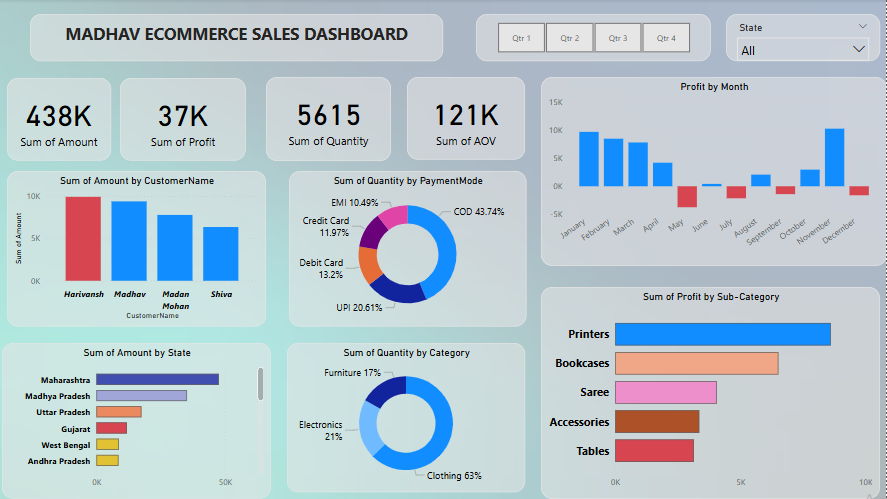

What the dashboard file says about the page in this screenshot:
{"tool":"powerbi","page":{"name":"Page 1","canvas":[1280,720],"ordinal":0},"visuals":[{"type":"clusteredColumnChart","title":"Profit by Month","fields":{"Category":["Orders (1).Order Date.Variation.Date Hierarchy.Month"],"Y":["Details.Profit"]},"box":[782.3,112,497.7,271.8],"z":0},{"type":"clusteredBarChart","fields":{"Category":["Details.Sub-Category"],"Y":["Details.Profit"]},"box":[782.3,415,488.5,304.8],"z":1000},{"type":"donutChart","fields":{"Category":["Details.Category"],"Y":["Details.Quantity"]},"box":[416.6,495.5,342.7,215],"z":2000},{"type":"donutChart","fields":{"Category":["Details.PaymentMode"],"Y":["Details.Quantity"]},"box":[418.7,247.9,341.6,224],"z":3000},{"type":"card","fields":{"Values":["Details.Amount"]},"box":[13.4,114.2,149.5,119.3],"z":4000},{"type":"card","fields":{"Values":["Details.Profit"]},"box":[176.4,114.2,181.4,119.3],"z":5000},{"type":"card","fields":{"Values":["Details.Quantity"]},"box":[386.4,112.5,179.7,120.9],"z":6000},{"type":"card","fields":{"Values":["Details.AOV"]},"box":[589.6,112.5,169.7,119.3],"z":7000},{"type":"barChart","fields":{"Category":["Orders (1).State"],"Y":["Details.Amount"]},"box":[5.5,495.8,387.5,224],"z":8000},{"type":"columnChart","fields":{"Category":["Orders (1).CustomerName"],"Y":["Details.Amount"]},"box":[12.9,247.9,372.8,224],"z":9000},{"type":"textbox","box":[45.9,22,595,67.9],"z":10000},{"type":"slicer","fields":{"Values":["Orders (1).Order Date.Variation.Date Hierarchy.Quarter"]},"box":[688.7,22,337.9,67.9],"z":11000},{"type":"slicer","fields":{"Values":["Orders (1).State"]},"box":[1048.6,22,222.2,67.9],"z":12000}]}

Visuals, with their boxes in screenshot pixels (x1, y1, x2, y2), scaled from the page's 1280x720 canvas onto the 887x499 screenshot:
"Profit by Month" clusteredColumnChart: (left=542, top=78, right=886, bottom=266)
clusteredBarChart - Details.Sub-Category x Details.Profit: (left=542, top=288, right=881, bottom=498)
donutChart - Details.Category x Details.Quantity: (left=289, top=343, right=526, bottom=492)
donutChart - Details.PaymentMode x Details.Quantity: (left=290, top=172, right=527, bottom=327)
card - Details.Amount: (left=9, top=79, right=113, bottom=162)
card - Details.Profit: (left=122, top=79, right=248, bottom=162)
card - Details.Quantity: (left=268, top=78, right=392, bottom=162)
card - Details.AOV: (left=409, top=78, right=526, bottom=161)
barChart - Orders (1).State x Details.Amount: (left=4, top=344, right=272, bottom=498)
columnChart - Orders (1).CustomerName x Details.Amount: (left=9, top=172, right=267, bottom=327)
textbox: (left=32, top=15, right=444, bottom=62)
slicer - Orders (1).Order Date.Variation.Date Hierarchy.Quarter: (left=477, top=15, right=711, bottom=62)
slicer - Orders (1).State: (left=727, top=15, right=881, bottom=62)
